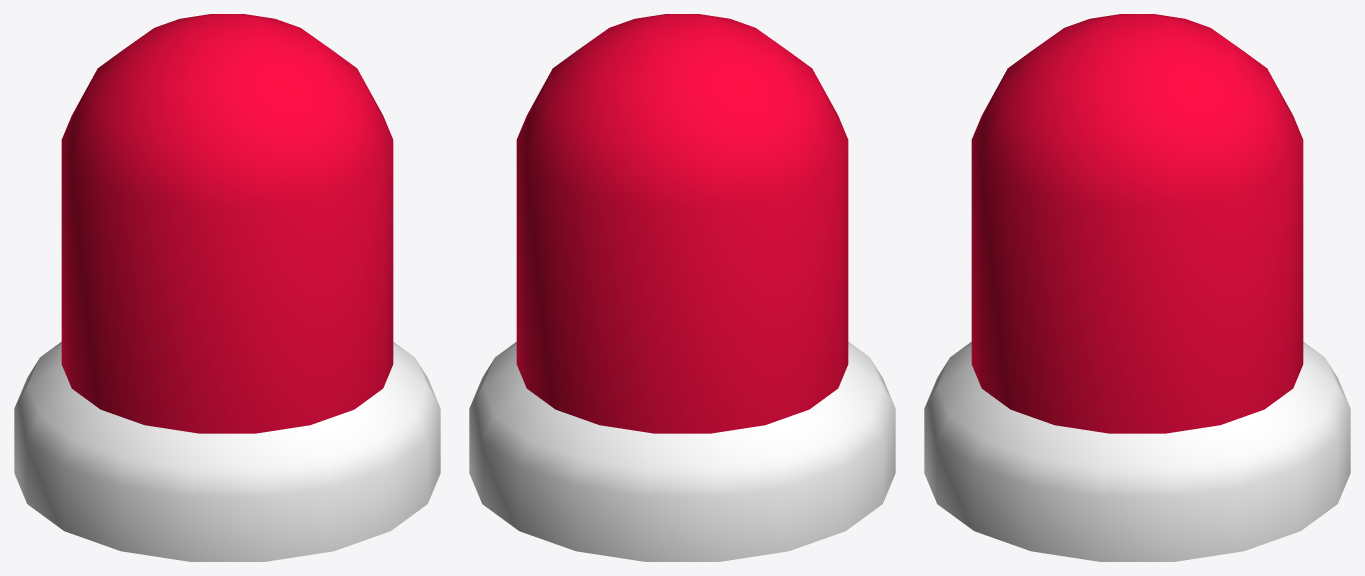
The model's file is LED_1_Red.fbx.
3 views of the same model, side by side, from view 1: azimuth 30°, elevation 25°; view 2: azimuth 150°, elevation 25°; view 3: azimuth 270°, elevation 25° (orthographic).
Parts seen in each view (by area): view 1: LED_1_Red; view 2: LED_1_Red; view 3: LED_1_Red.
Boxes of the visible parts, x1,y1,x2,y2 form: LED_1_Red: [14, 14, 440, 561]; LED_1_Red: [469, 14, 895, 561]; LED_1_Red: [924, 14, 1350, 561].
Bounding box in the file's own units: 23.66 × 27.52 × 24.03.
